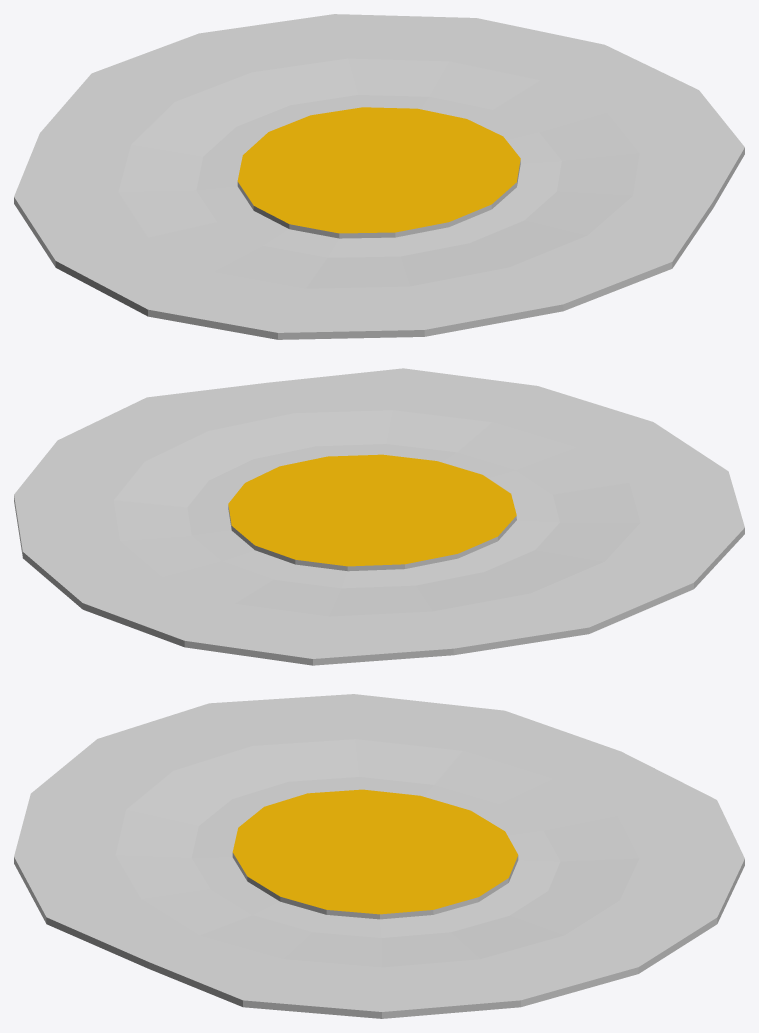
The model's file is egg.FBX.
3 views of the same model, one above another, from view 1: azimuth 30°, elevation 25°; view 2: azimuth 150°, elevation 25°; view 3: azimuth 270°, elevation 25° (orthographic). The views are drawn at different scales.
Parts seen in each view (by area): view 1: Egg; view 2: Egg; view 3: Egg.
Boxes of the visible parts, x1=… form: Egg: x1=14, y1=14, x2=744, y2=339; Egg: x1=14, y1=368, x2=744, y2=665; Egg: x1=14, y1=694, x2=744, y2=1018.
Bounding box in the file's own units: 0.00133 × 2.47e-05 × 0.00129.
